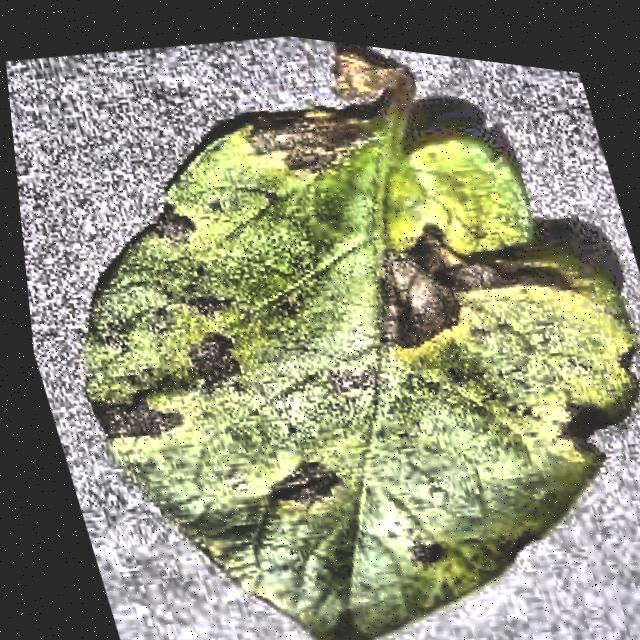Potato_leaf_early_blight: (87, 52, 638, 640)
